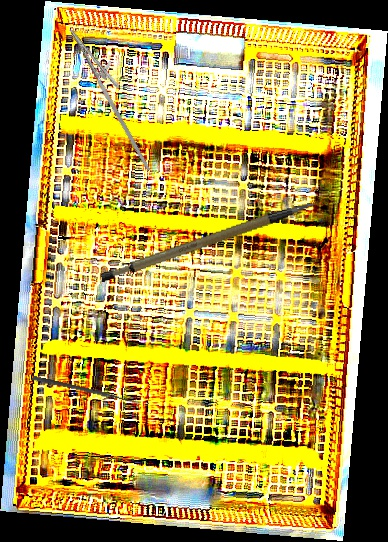Needle Holder: (54, 22, 176, 172)
Scalpel Handle: (95, 201, 323, 285)
Surgical Spoon: (31, 375, 142, 406)
